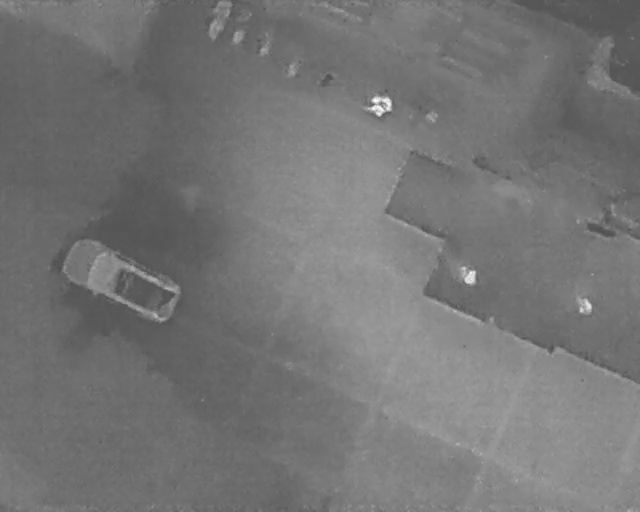Bicycle: (228, 4, 257, 47), (207, 0, 233, 43), (250, 22, 278, 59), (280, 48, 307, 80), (315, 65, 341, 92)
Car: (55, 229, 191, 330)
Person: (364, 91, 395, 119), (572, 296, 595, 316), (460, 266, 477, 286)
